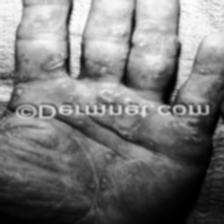Potentially Malignant Skin Tumors: (134, 58, 166, 80), (38, 51, 68, 73), (92, 88, 124, 105), (114, 28, 126, 36)
